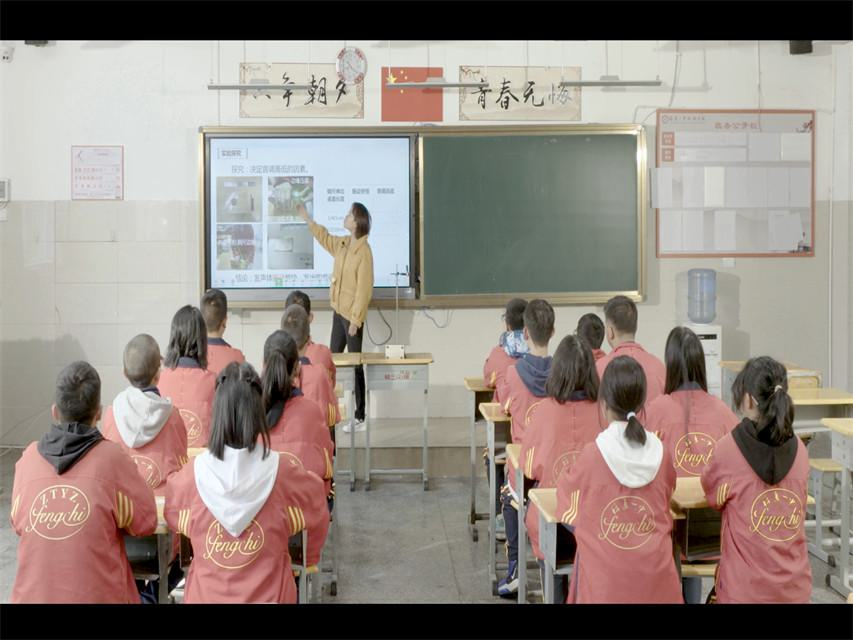listen: (724, 351, 817, 559), (110, 333, 169, 442), (279, 302, 331, 380), (496, 286, 529, 354)
